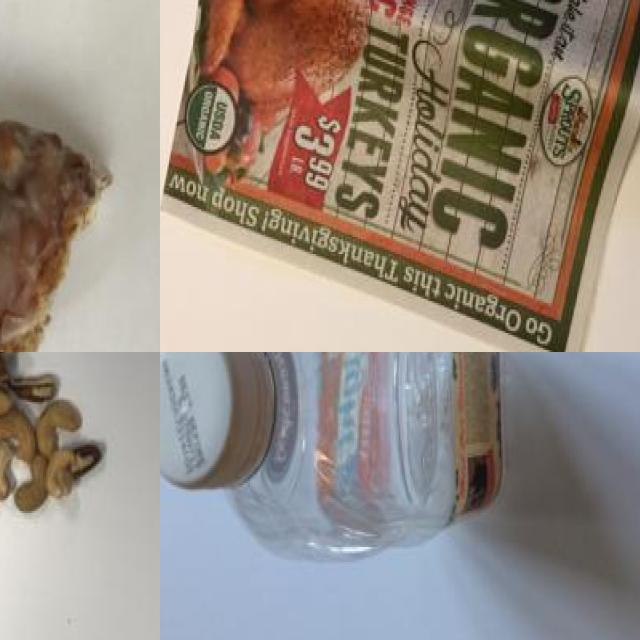compost: (0, 101, 124, 352), (0, 352, 130, 528)
paper: (174, 0, 640, 352)
plastic: (160, 352, 513, 561)
